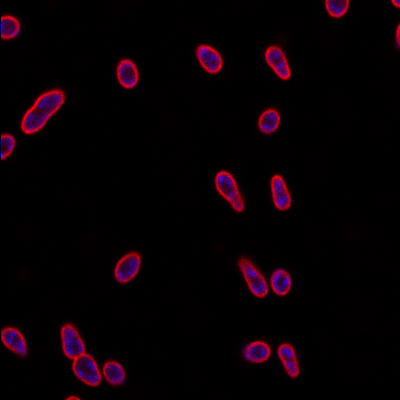Mecillinam: (59, 322, 103, 387), (20, 89, 68, 134), (263, 45, 292, 81), (112, 250, 142, 284), (269, 172, 293, 212), (194, 43, 224, 75), (277, 343, 300, 378), (114, 57, 139, 89), (255, 108, 281, 135), (269, 267, 294, 295)
Oblique: (236, 254, 269, 298), (213, 169, 246, 212), (1, 324, 29, 357), (239, 338, 272, 365), (102, 359, 127, 384)
